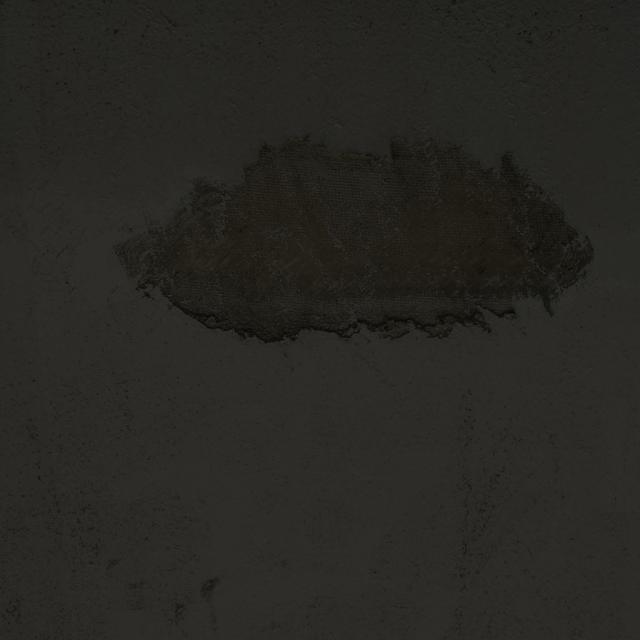surface_peeling: (112, 135, 604, 351)
